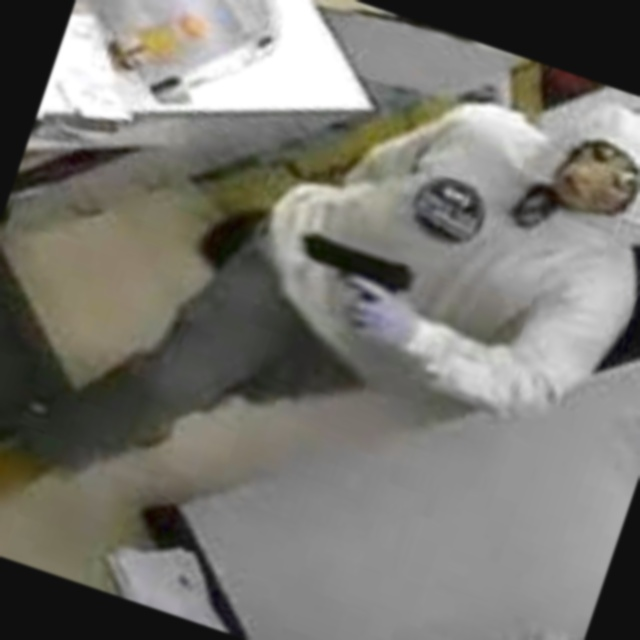gun: (282, 211, 446, 329)
